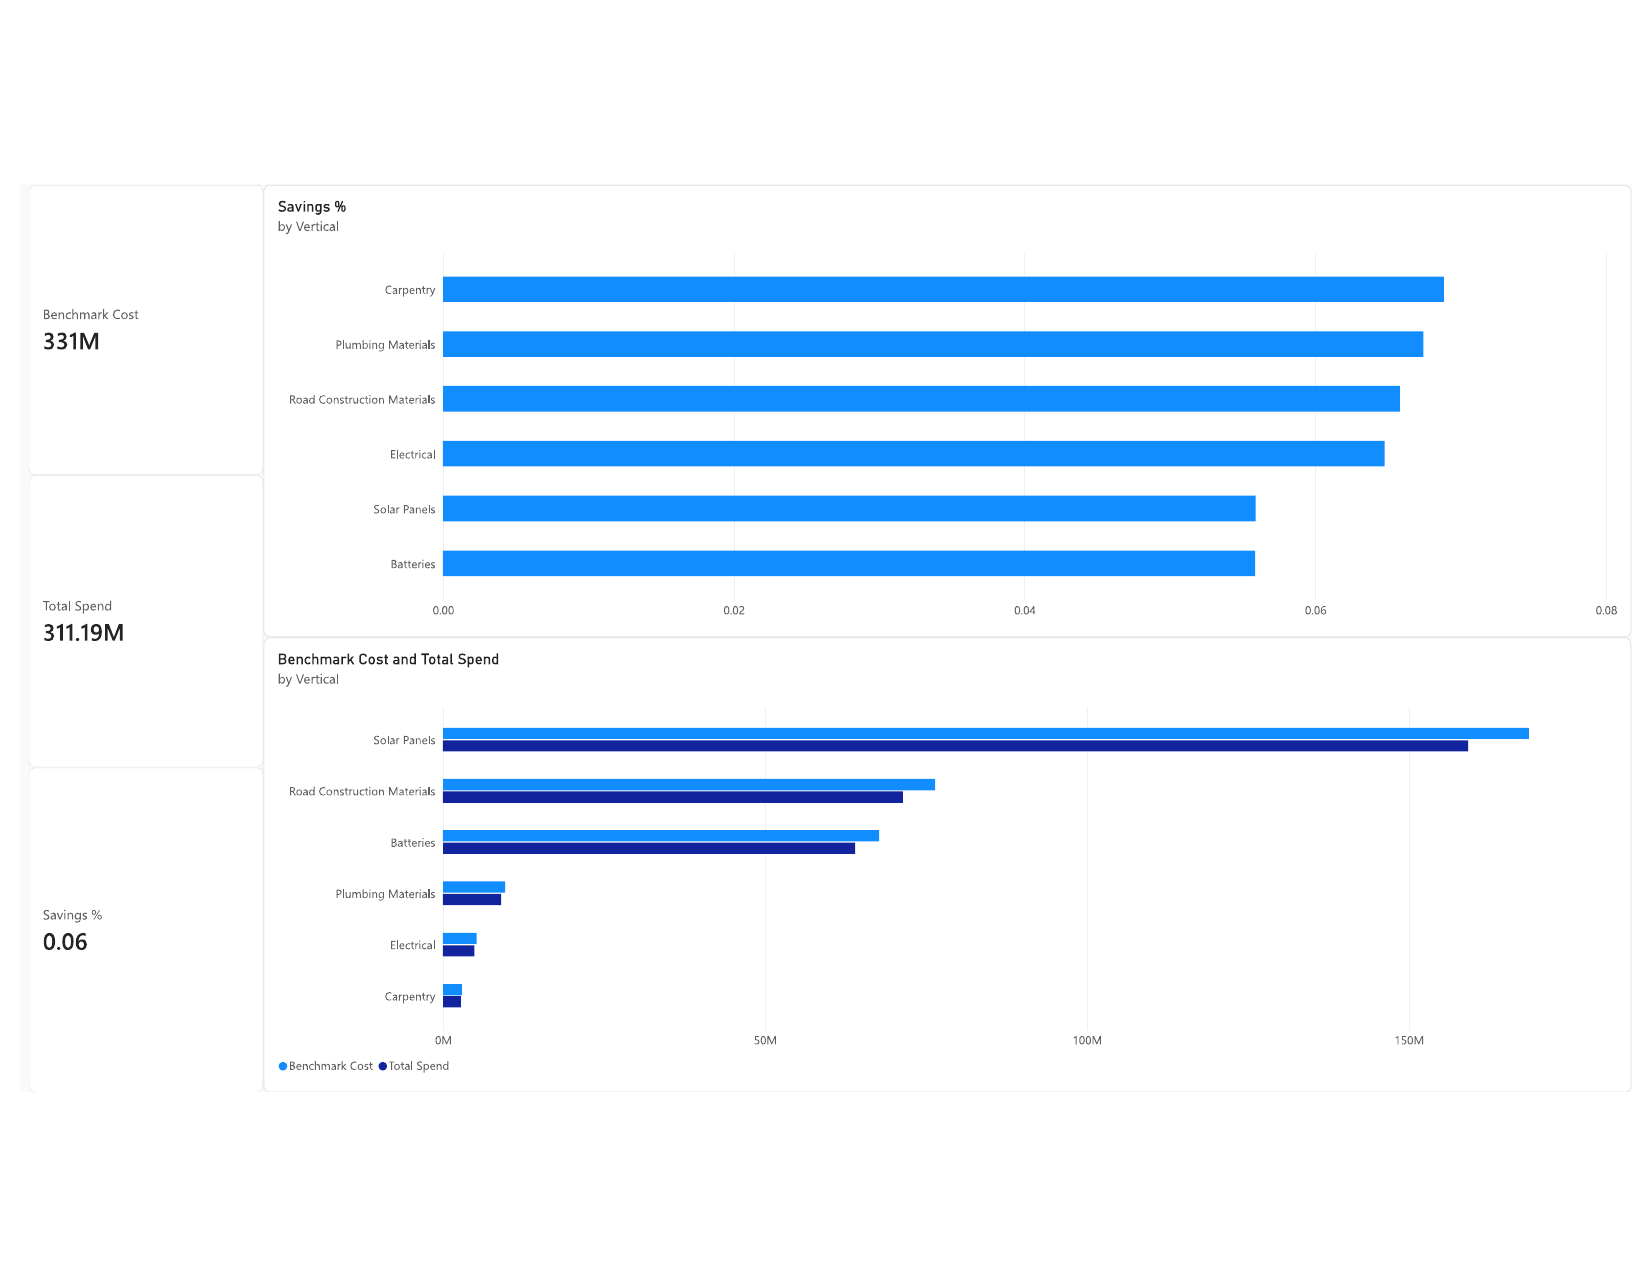

What the dashboard file says about the page in this screenshot:
{"tool":"powerbi","page":{"name":"Outcomes","canvas":[1920,1080],"ordinal":15},"visuals":[{"type":"cardVisual","fields":{"Data":["PO_Data.Benchmark Cost"]},"box":[10.3,0,279.9,345.8],"z":0},{"type":"cardVisual","fields":{"Data":["PO_Data.Total Spend"]},"box":[10.3,345.8,279.9,347.9],"z":1},{"type":"cardVisual","fields":{"Data":["PO_Data.Savings %"]},"box":[10.3,693.7,279.9,387],"z":2},{"type":"barChart","fields":{"Category":["PO_Data.Vertical"],"Y":["PO_Data.Savings %"]},"box":[290.2,0,1630.2,539.3],"z":3},{"type":"clusteredBarChart","fields":{"Category":["PO_Data.Vertical"],"Y":["PO_Data.Benchmark Cost","PO_Data.Total Spend"]},"box":[290.2,539.3,1630.2,541.3],"z":4}]}

Visuals, with their boxes on the page's 1920x1080 design canvas (x1, y1, x2, y2). These are canvas units, not pixel positions in the 1650x1275 screenshot, which may show the page scaled, cropped or inside an application window:
cardVisual - PO_Data.Benchmark Cost: [x1=10, y1=0, x2=290, y2=346]
cardVisual - PO_Data.Total Spend: [x1=10, y1=346, x2=290, y2=694]
cardVisual - PO_Data.Savings %: [x1=10, y1=694, x2=290, y2=1081]
barChart - PO_Data.Vertical x PO_Data.Savings %: [x1=290, y1=0, x2=1920, y2=539]
clusteredBarChart - PO_Data.Vertical x PO_Data.Benchmark Cost: [x1=290, y1=539, x2=1920, y2=1081]
